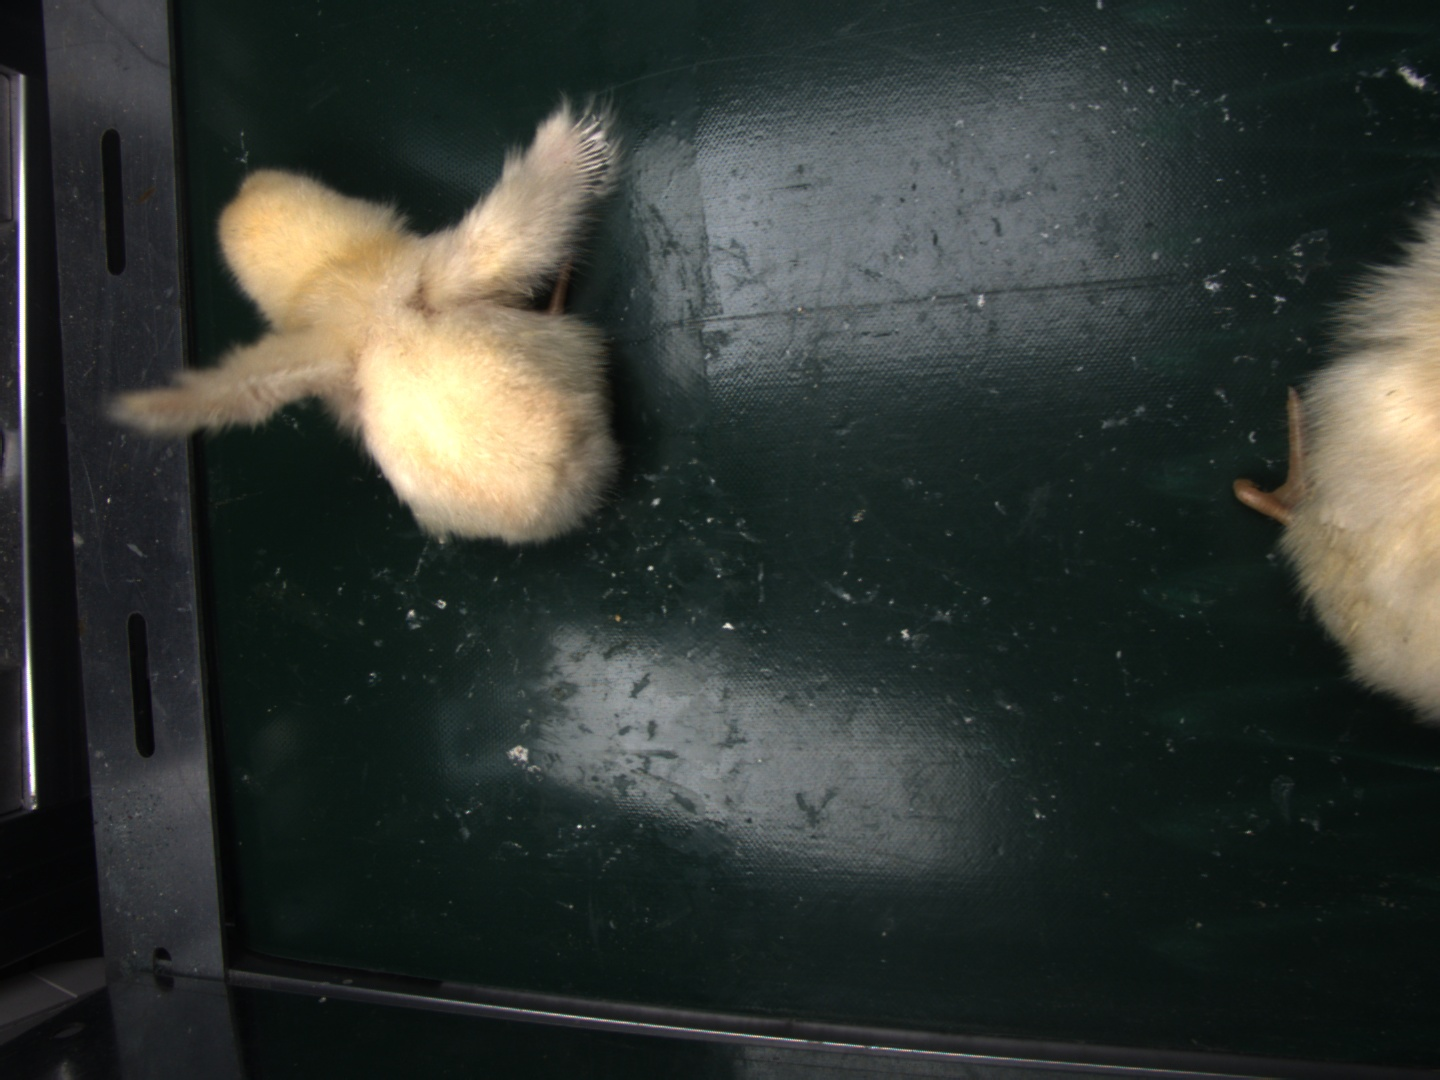male: (569, 113, 619, 195)
